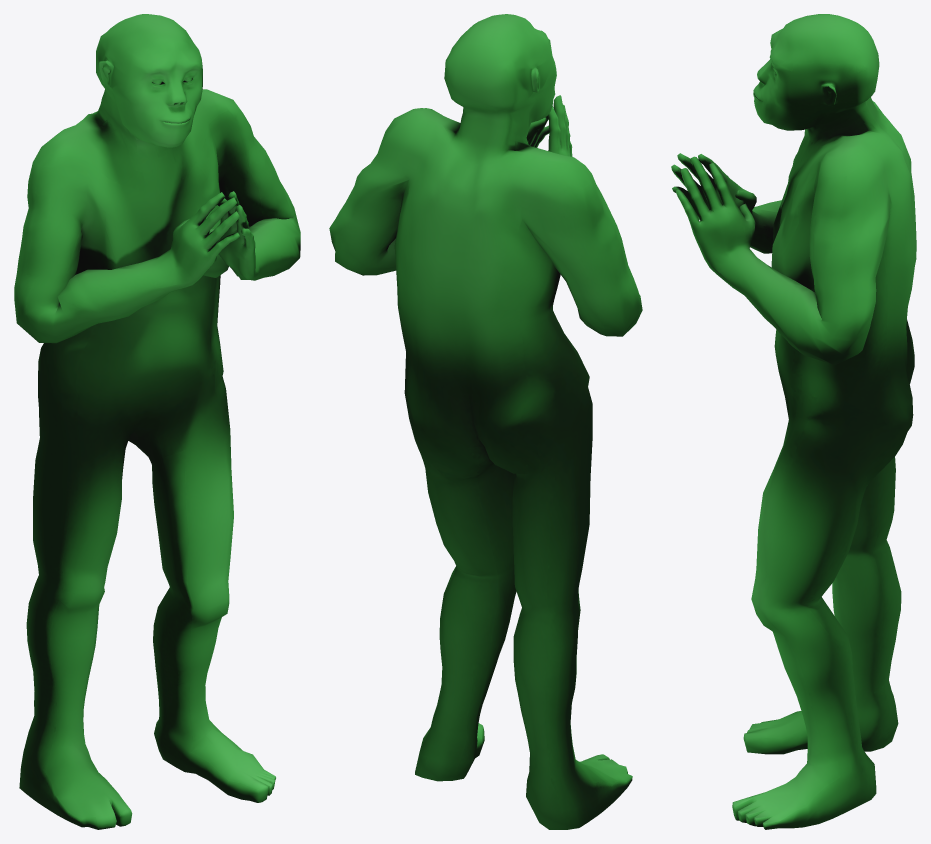
File: h-floresiensis.glb
3 renders of one model, left to right at view 1: azimuth 30°, elevation 25°; view 2: azimuth 150°, elevation 25°; view 3: azimuth 270°, elevation 25°, orthographic.
Size of the model in its own units: 0.393 by 0.9967 by 0.289.
1 material, 1 textured.
